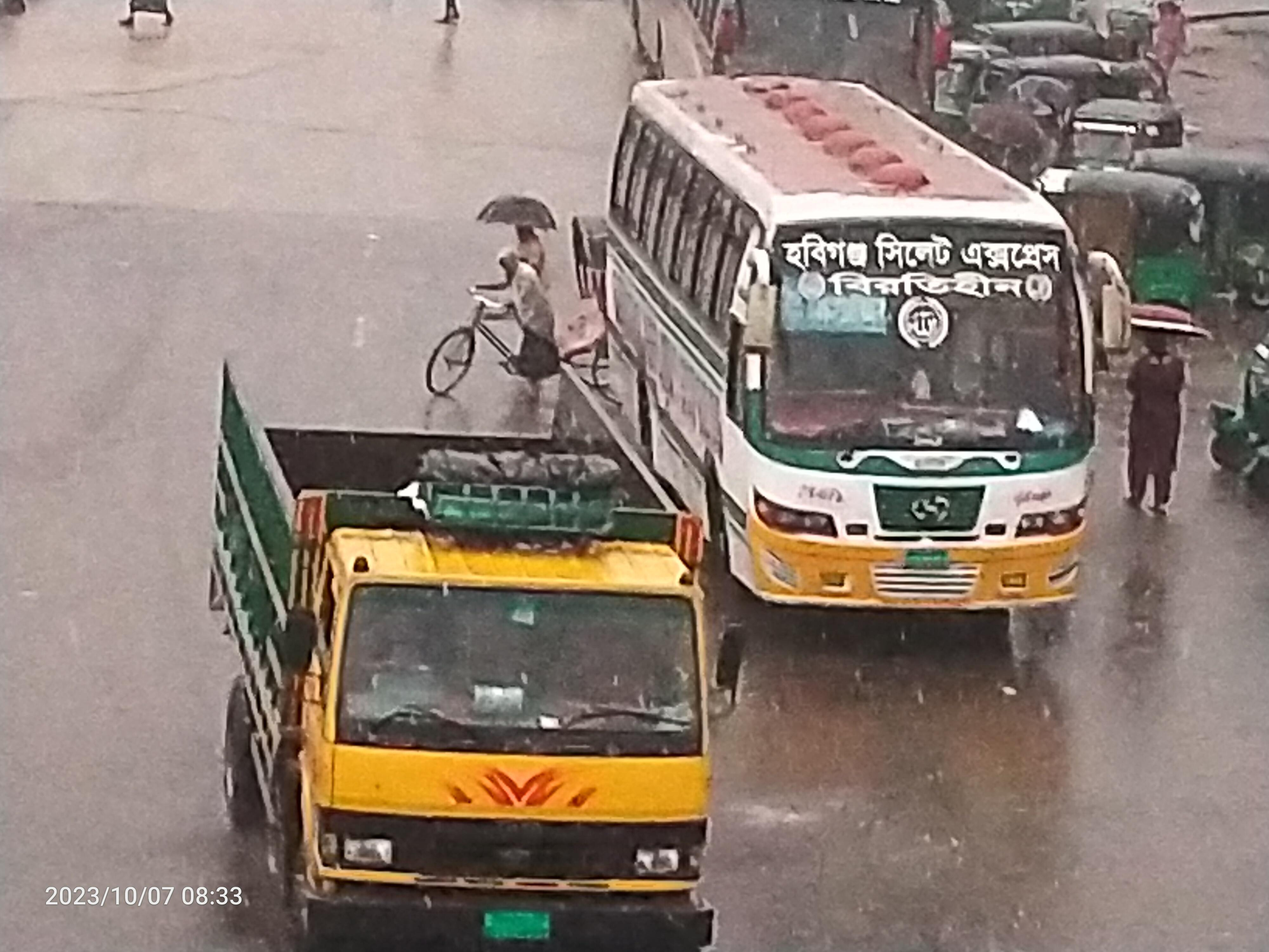Bus: (532, 60, 1127, 646), (591, 0, 944, 107)
Truck: (157, 331, 748, 952)
